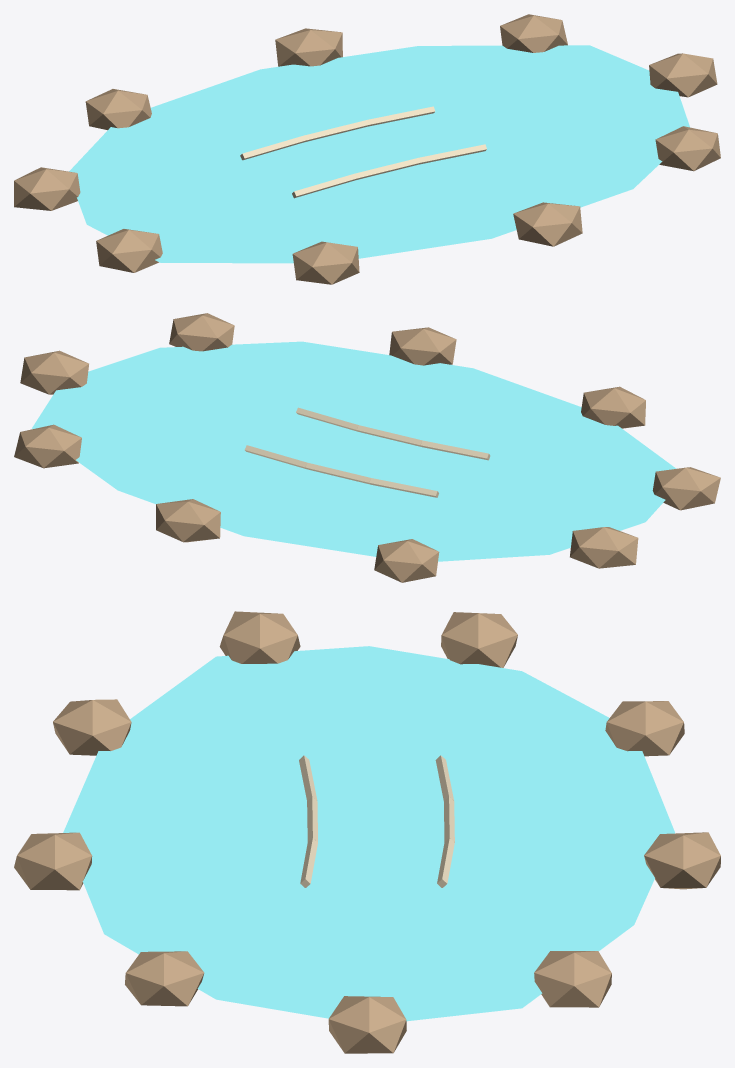
The model's file is enfeite_lago.glb.
The picture shows the model from 3 angles, top to bottom: view 1: azimuth 30°, elevation 25°; view 2: azimuth 150°, elevation 25°; view 3: azimuth 270°, elevation 25°; orthographic projection. The views are drawn at different scales.
Parts seen in each view (by area): view 1: deserto_enfeite_lago; view 2: deserto_enfeite_lago; view 3: deserto_enfeite_lago.
Boxes of the visible parts, x1,y1,x2,y2 form: deserto_enfeite_lago: (14, 14, 720, 284); deserto_enfeite_lago: (14, 313, 720, 582); deserto_enfeite_lago: (14, 611, 720, 1053).
Size of the model in its own units: 1.54 by 0.0951 by 1.09.
